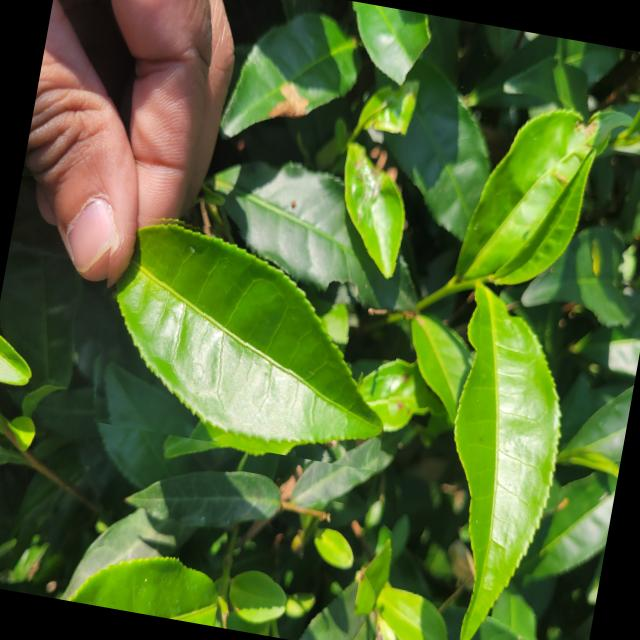Catagory A(1-2 days): (76, 204, 412, 470)
